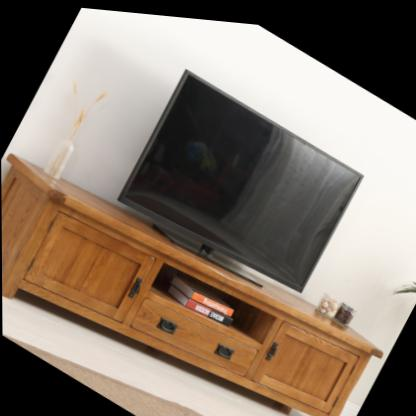Carpet: (2, 335, 213, 416)
TV stand: (1, 130, 384, 416)
